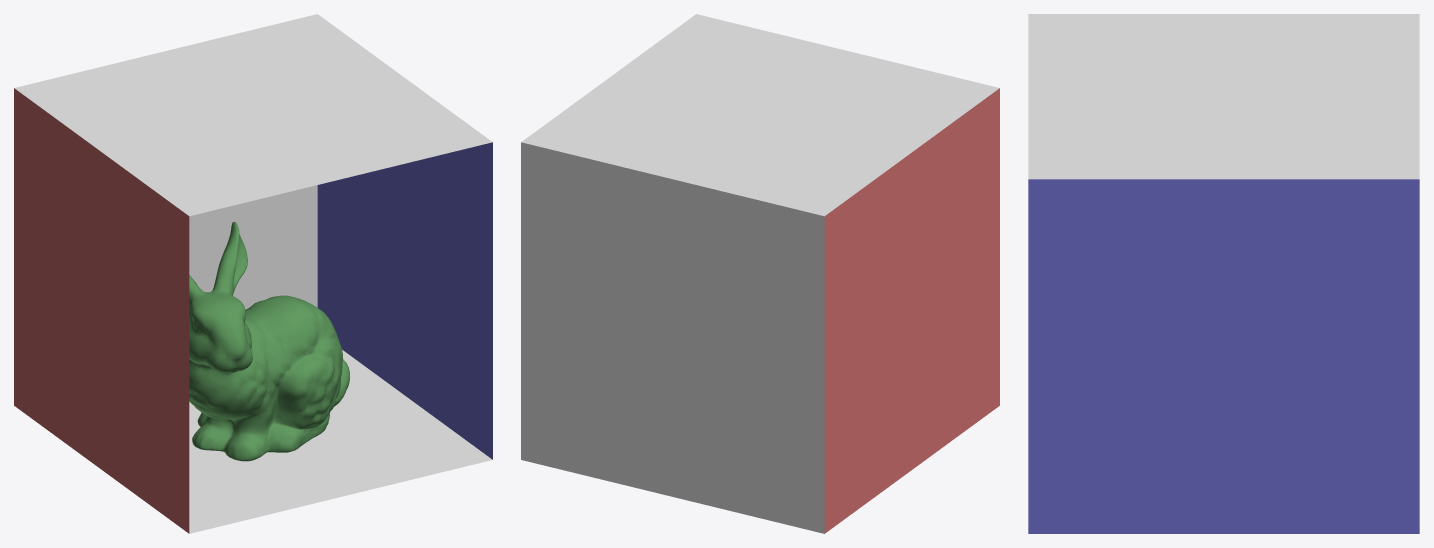
Rendered from bunny_10k.gltf.
3 views of the same model, side by side, from view 1: azimuth 30°, elevation 25°; view 2: azimuth 150°, elevation 25°; view 3: azimuth 270°, elevation 25° (orthographic). The views are drawn at different scales.
Parts seen in each view (by area): view 1: Plane.004, Plane.001, Plane.003, bunny, Plane, Plane.002; view 2: Plane.002, Plane.004, Plane.001; view 3: Plane.003, Plane.001.
Boxes of the visible parts, bbox=[...] form: Plane.004: bbox=[14, 88, 189, 533]; Plane.001: bbox=[14, 14, 492, 216]; Plane.003: bbox=[317, 142, 492, 459]; bunny: bbox=[189, 221, 349, 461]; Plane: bbox=[189, 350, 492, 533]; Plane.002: bbox=[189, 185, 317, 309]; Plane.002: bbox=[521, 142, 824, 533]; Plane.004: bbox=[824, 88, 999, 533]; Plane.001: bbox=[521, 14, 999, 216]; Plane.003: bbox=[1028, 179, 1419, 533]; Plane.001: bbox=[1028, 14, 1419, 179].
Bounding box in the file's own units: 4 × 4 × 4.
